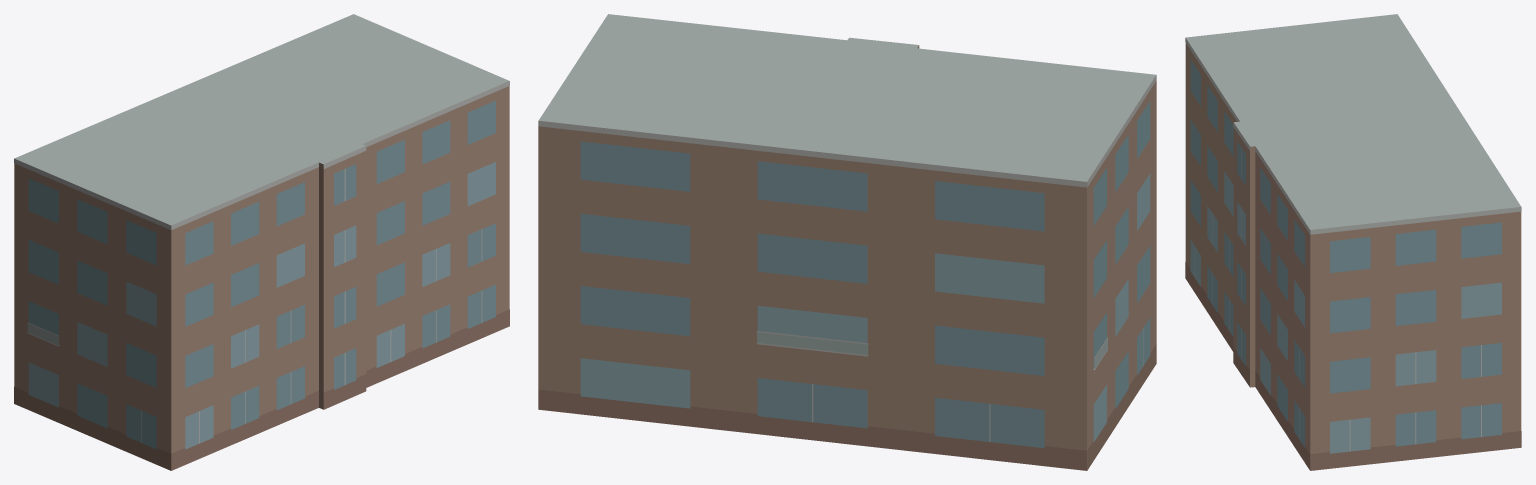
Rendered from survey-upis-33006053.glb.
The picture shows the model from 3 angles, left to right: view 1: azimuth 30°, elevation 25°; view 2: azimuth 150°, elevation 25°; view 3: azimuth 270°, elevation 25°; orthographic projection. The views are drawn at different scales.
Visible parts, largest first — view 1: survey-upis-33006053.tmp; view 2: survey-upis-33006053.tmp; view 3: survey-upis-33006053.tmp.
Boxes of the visible parts, x1,y1,x2,y2 form: survey-upis-33006053.tmp: [14, 14, 509, 470]; survey-upis-33006053.tmp: [538, 14, 1156, 470]; survey-upis-33006053.tmp: [1185, 14, 1521, 470].
Size of the model in its own units: 24.26 by 12.6 by 15.94.
